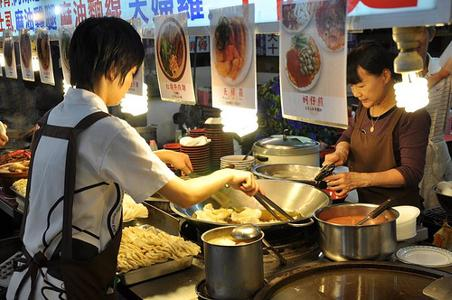person: (3, 16, 263, 300)
